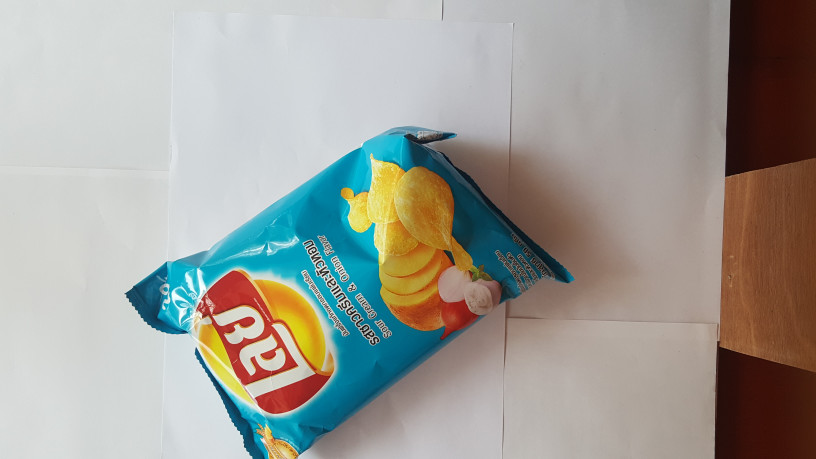lays-onion: (117, 128, 545, 459)
